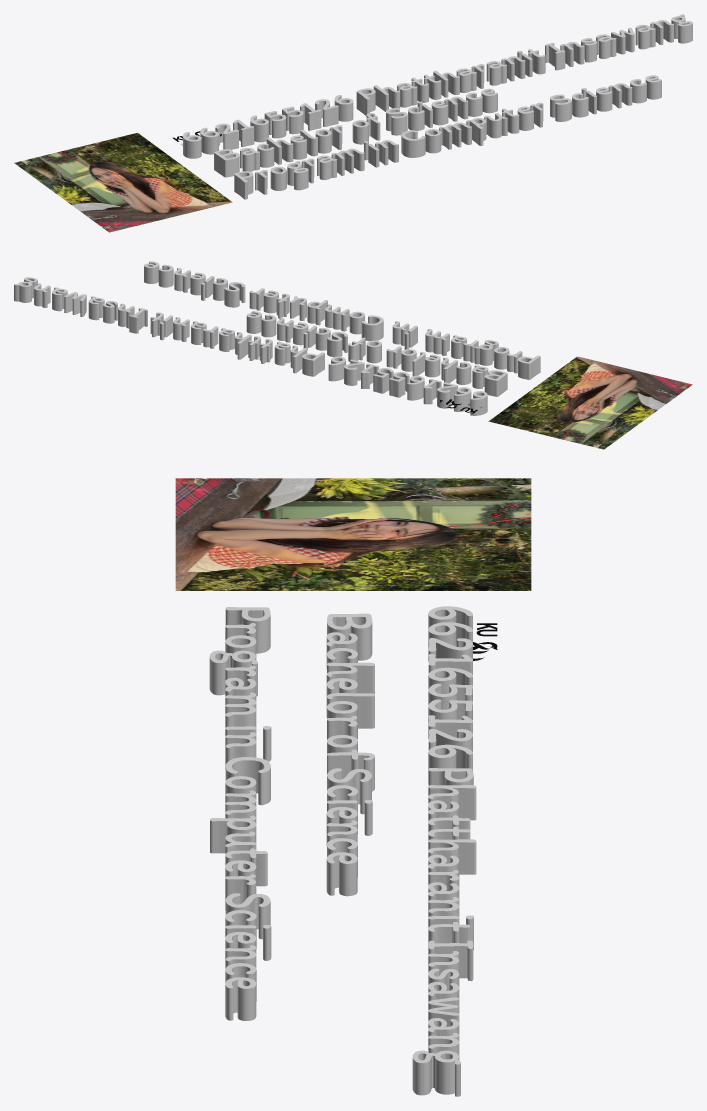
The model's file is picname.glb.
3 renders of one model, top to bottom at view 1: azimuth 30°, elevation 25°; view 2: azimuth 150°, elevation 25°; view 3: azimuth 270°, elevation 25°, orthographic. The views are drawn at different scales.
Parts seen in each view (by area): view 1: Text, Plane; view 2: Text, Plane; view 3: Text, Plane.
Boxes of the visible parts, x1,y1,x2,y2 form: Text: (183, 14, 692, 199); Plane: (14, 133, 232, 232); Text: (14, 261, 540, 415); Plane: (488, 356, 692, 449); Text: (209, 606, 476, 1096); Plane: (175, 478, 531, 590).
Size of the model in its own units: 7.89 by 0.2 by 2.
2 materials, 1 textured.
